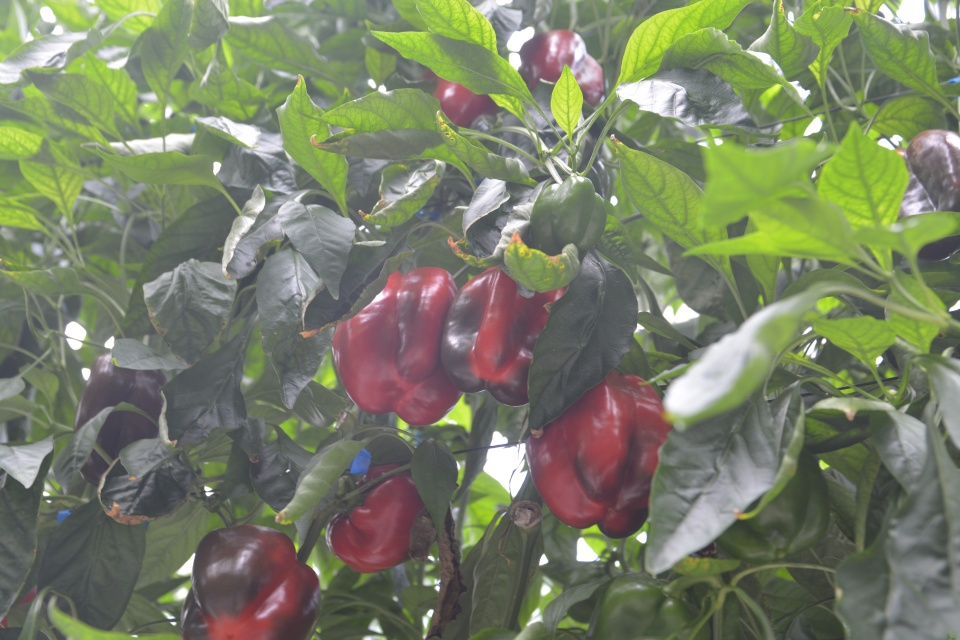fruit: (524, 365, 672, 541), (329, 266, 464, 428), (440, 264, 567, 408), (177, 520, 323, 640), (71, 349, 168, 487), (324, 460, 436, 574), (888, 128, 960, 262), (584, 569, 714, 640), (516, 27, 614, 104), (527, 173, 610, 258), (432, 74, 505, 129)
pedicle: (648, 578, 692, 599), (346, 490, 364, 507)
